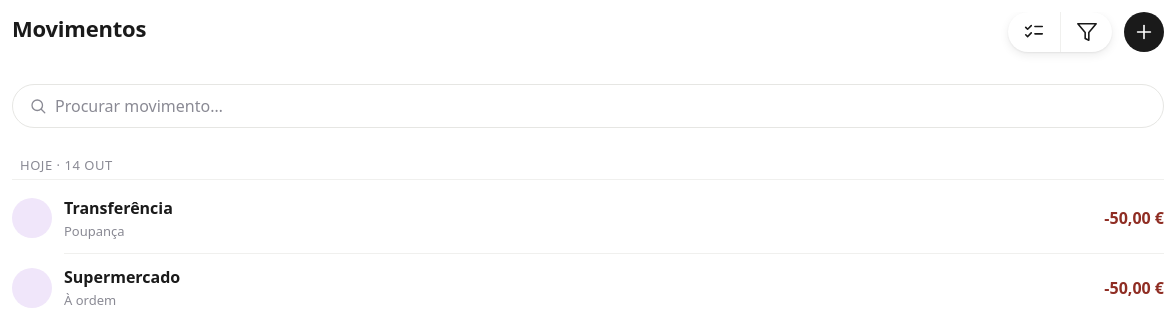
Test: Página Movimentos › filtra a lista pela pesquisa (descrição ou nome da conta), com debounce
This screenshot has width=1176, height=325.
Type "supermercado" into the search field labelled "Procurar movimento" at (601, 106), box 55,94 -> 1147,118
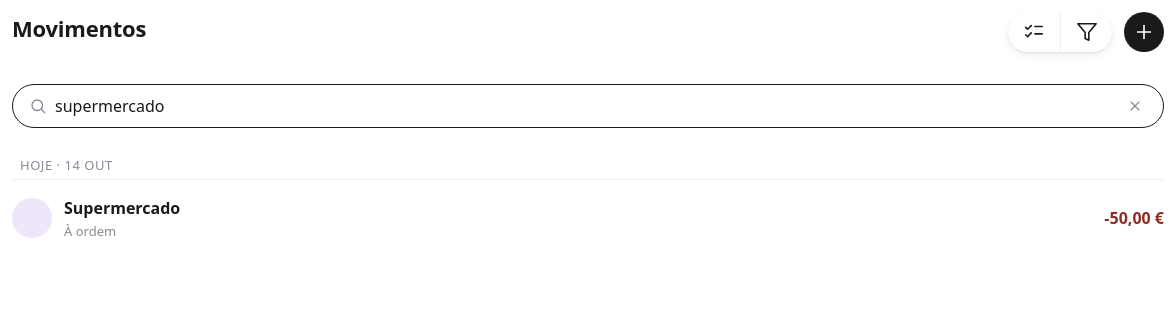
Now the link "Transferência" is gone
Clear the search field named "Procurar movimento" at (585, 106), box 55,94 -> 1115,118
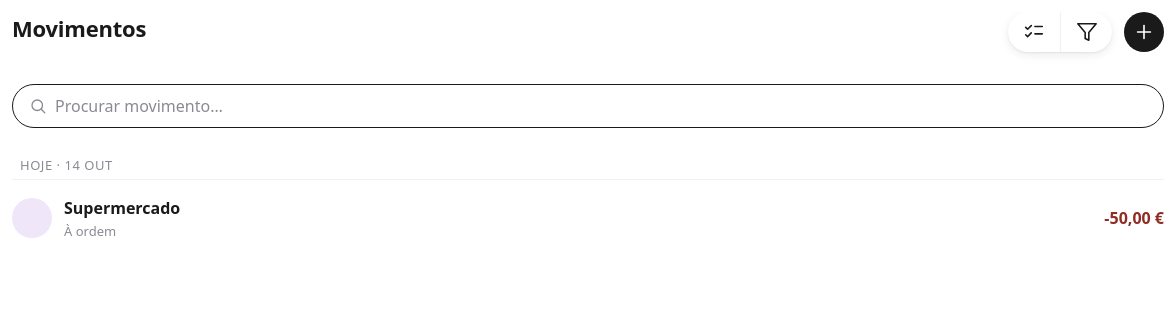
Type "poupança" into the search field labelled "Procurar movimento" at (601, 106), box 55,94 -> 1147,118
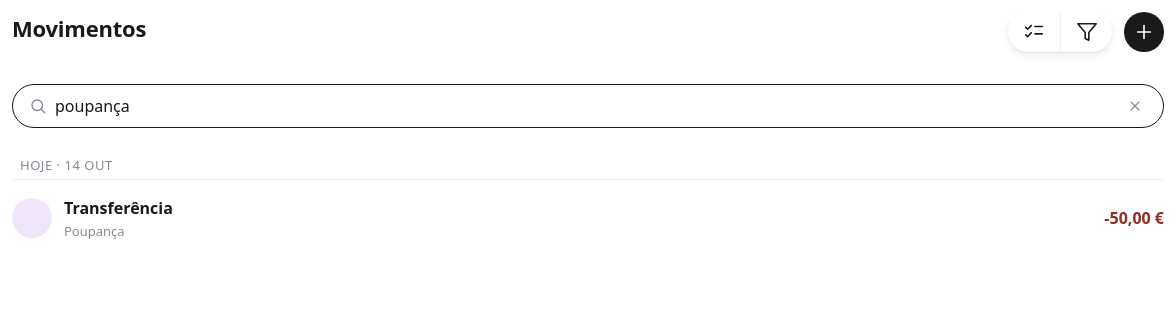
Now the link "Supermercado" is gone
